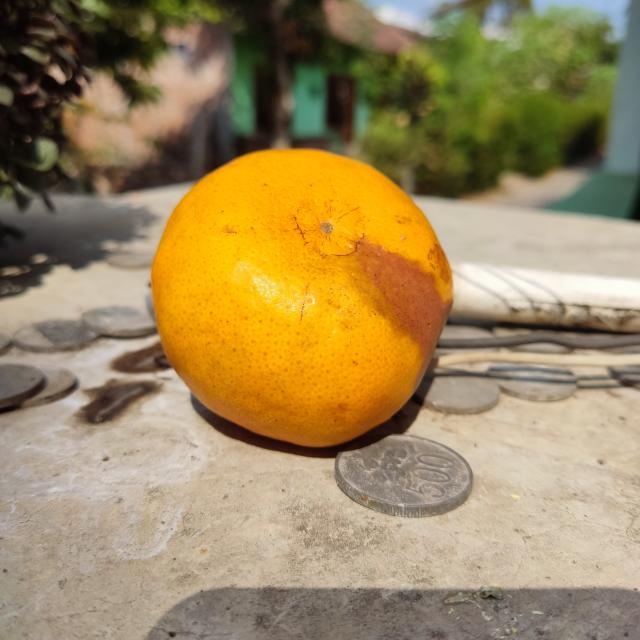orange: (145, 145, 458, 448)
